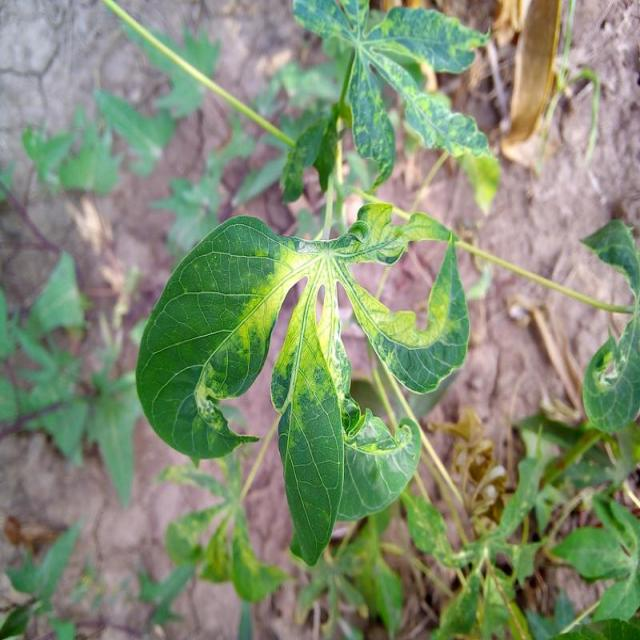cassava leaf: (134, 200, 470, 566)
